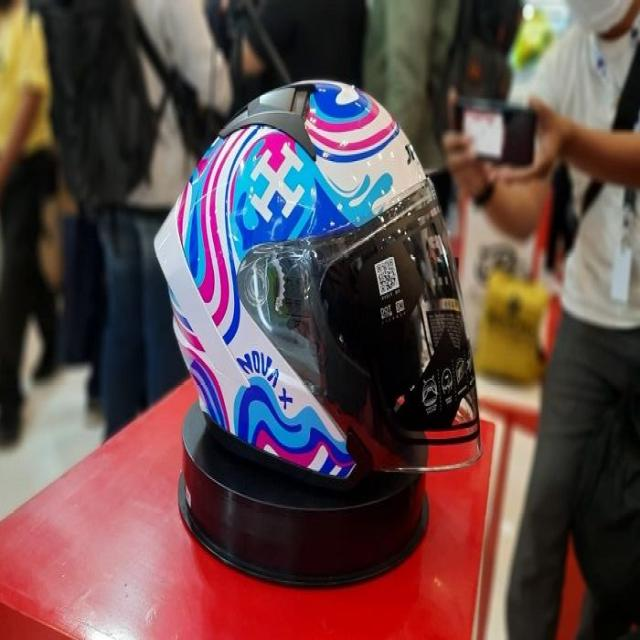Helm: (148, 76, 507, 498)
